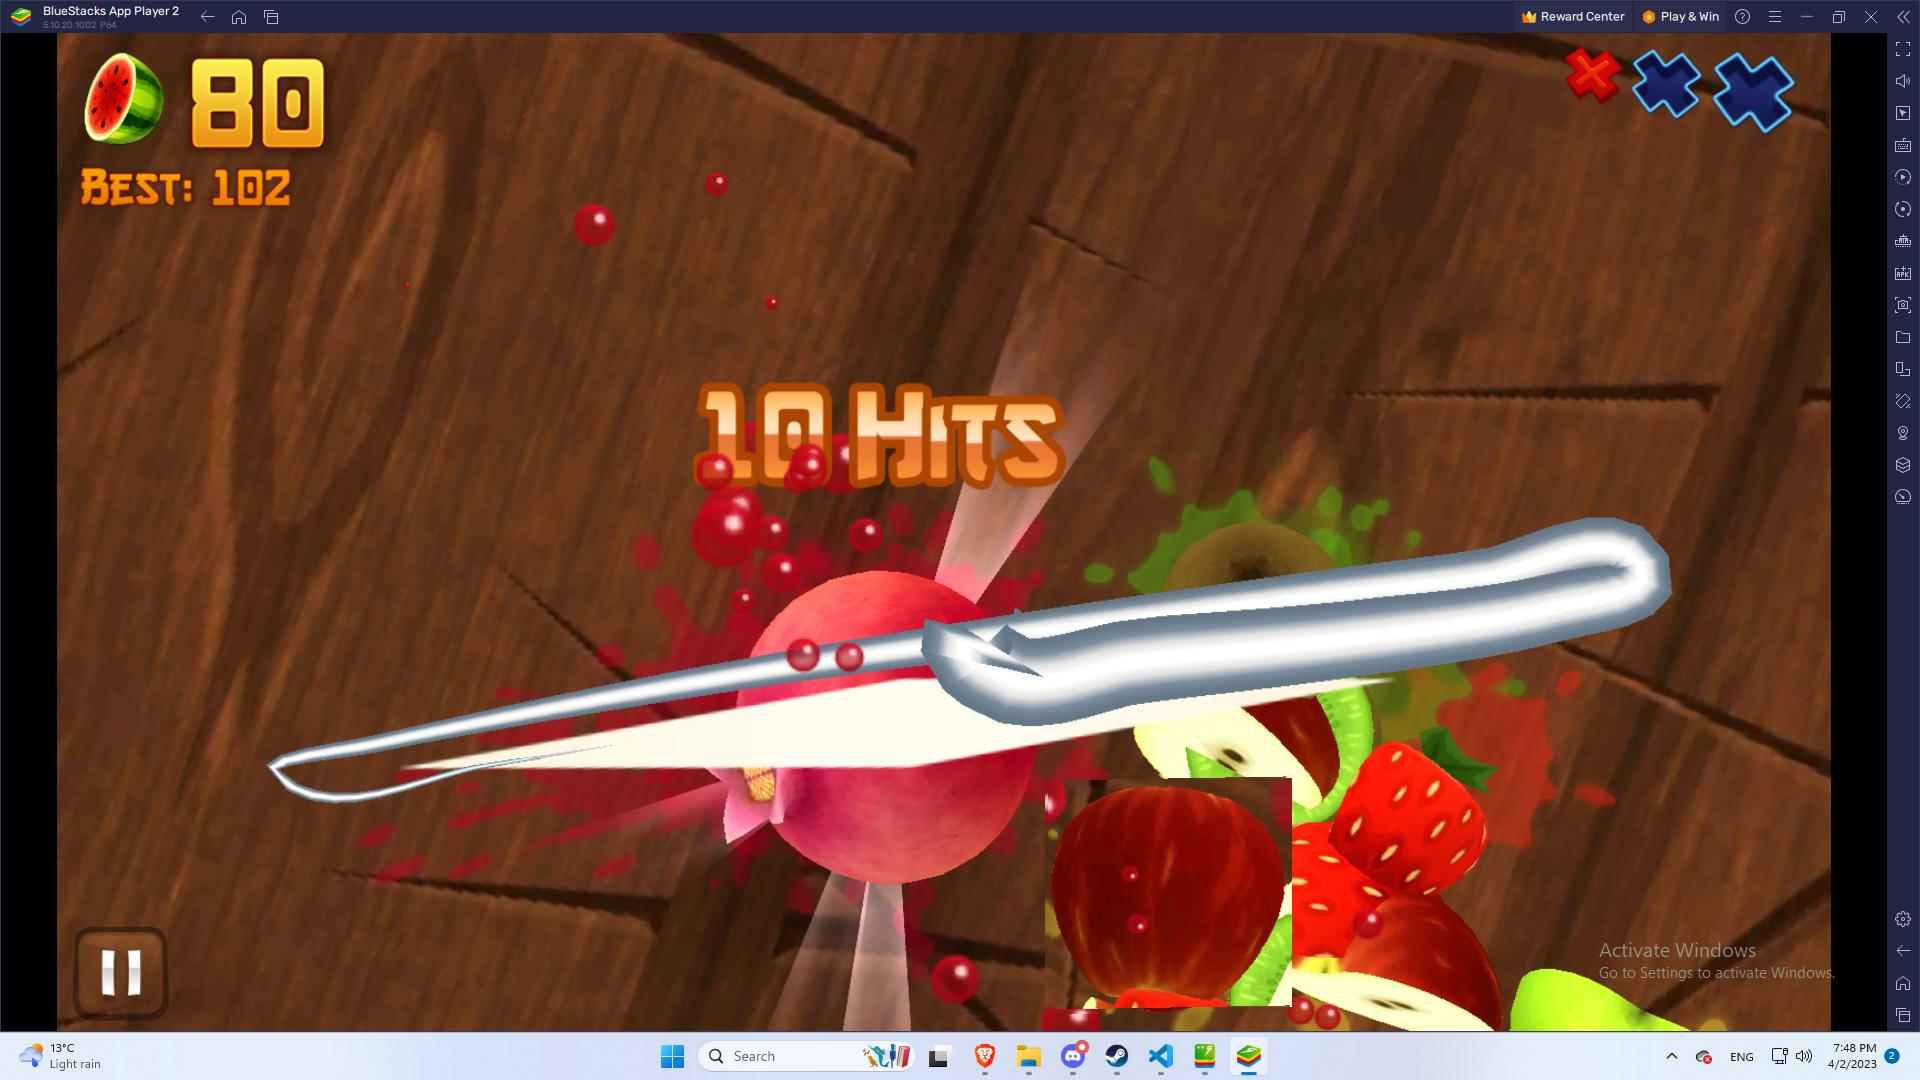fruit: (1048, 773, 1288, 1013)
